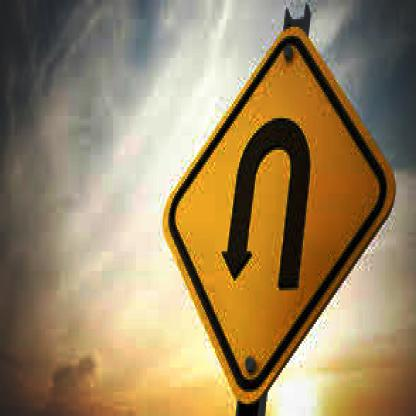U-turn: (160, 26, 401, 415)
